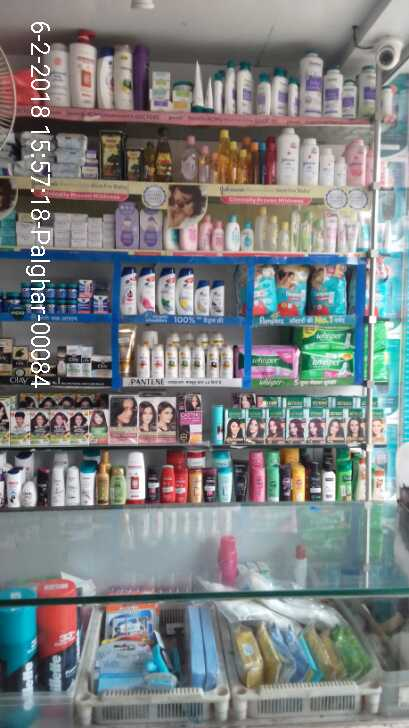vicks: (3, 277, 113, 318)
